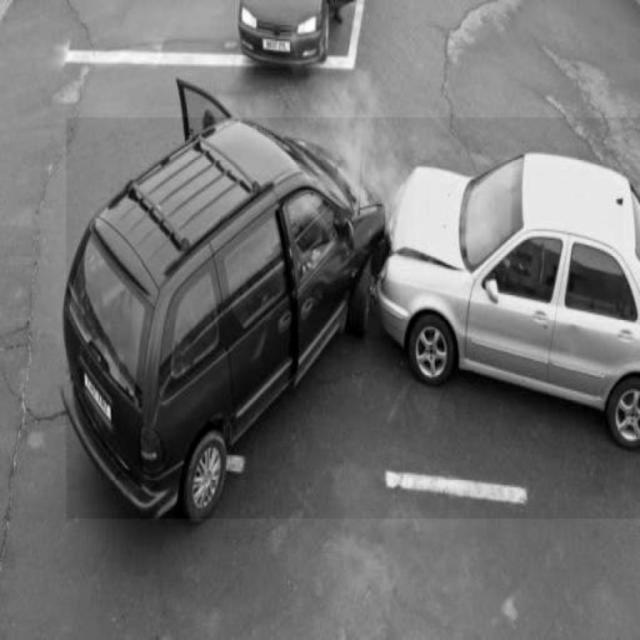accident: (67, 118, 640, 519)
vehicle: (235, 1, 347, 73)
